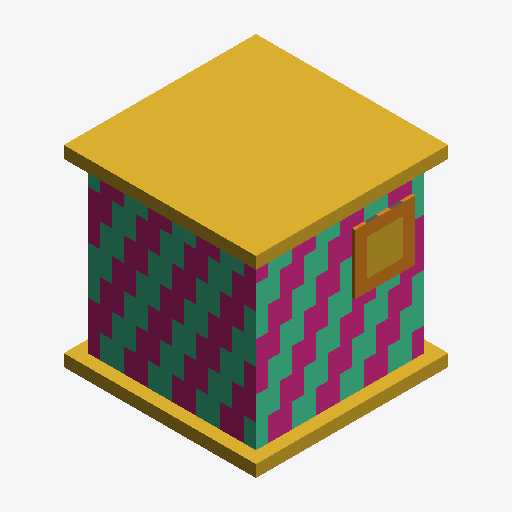
A Minecraft block model of 5 cuboids, rendered isometrically (azimuth 45°, elevation 35.3°) with the resource pack's own textures.
Parts seen in each view (by area): element 3, element 2, element 1, element 5.
Boxes of the visible parts, x1=… form: element 3: x1=88, y1=173, x2=423, y2=449; element 2: x1=64, y1=34, x2=447, y2=269; element 1: x1=64, y1=339, x2=447, y2=477; element 5: x1=352, y1=194, x2=414, y2=298.
Size of the model in its own units: 16 by 16 by 16.